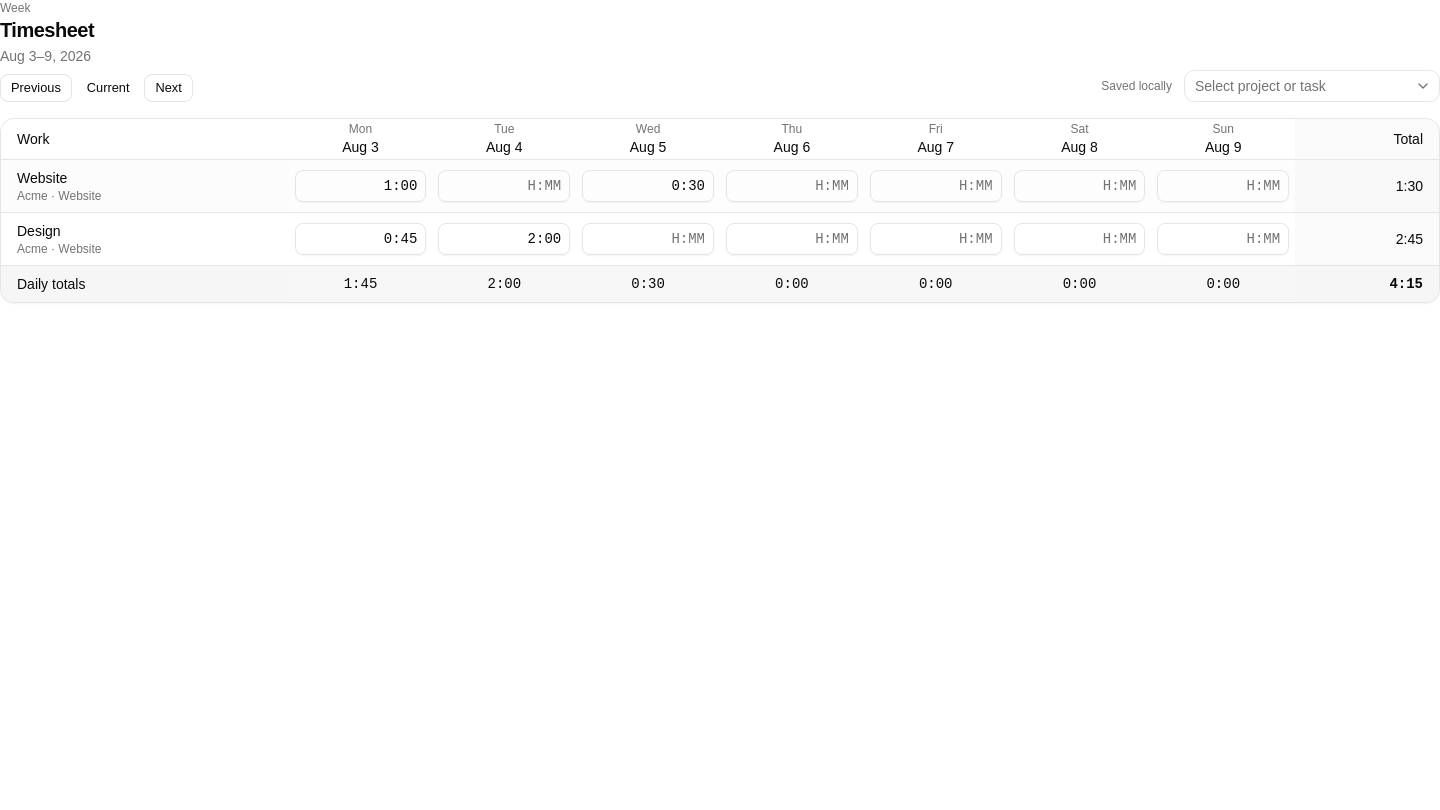
Test case: confirms deletion and recalculates row, day, and grand totals
Step 1. Clear the field named "Acme · Website · Mon Aug 3" → (360, 186), box [295, 170, 426, 202]
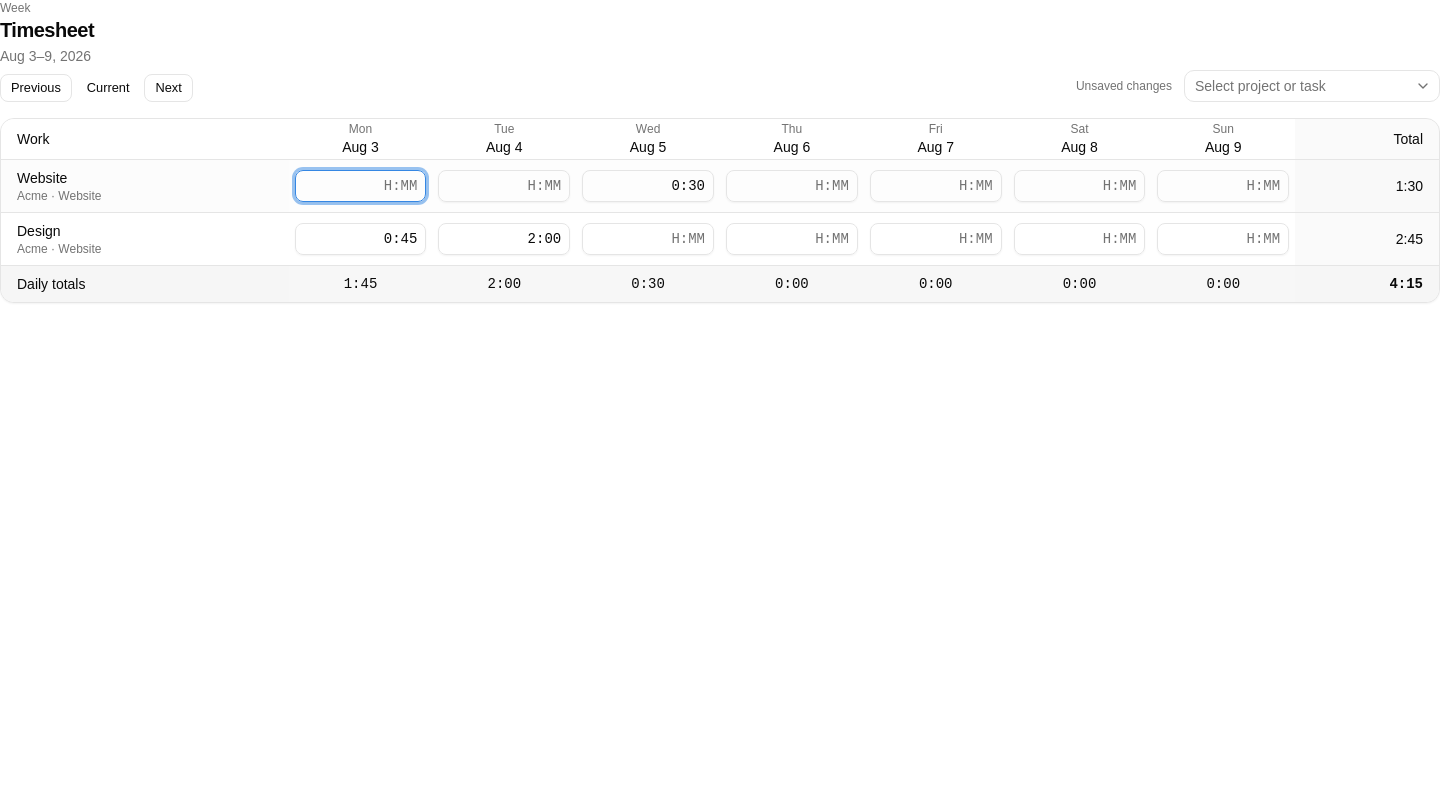
Step 2. Press Enter
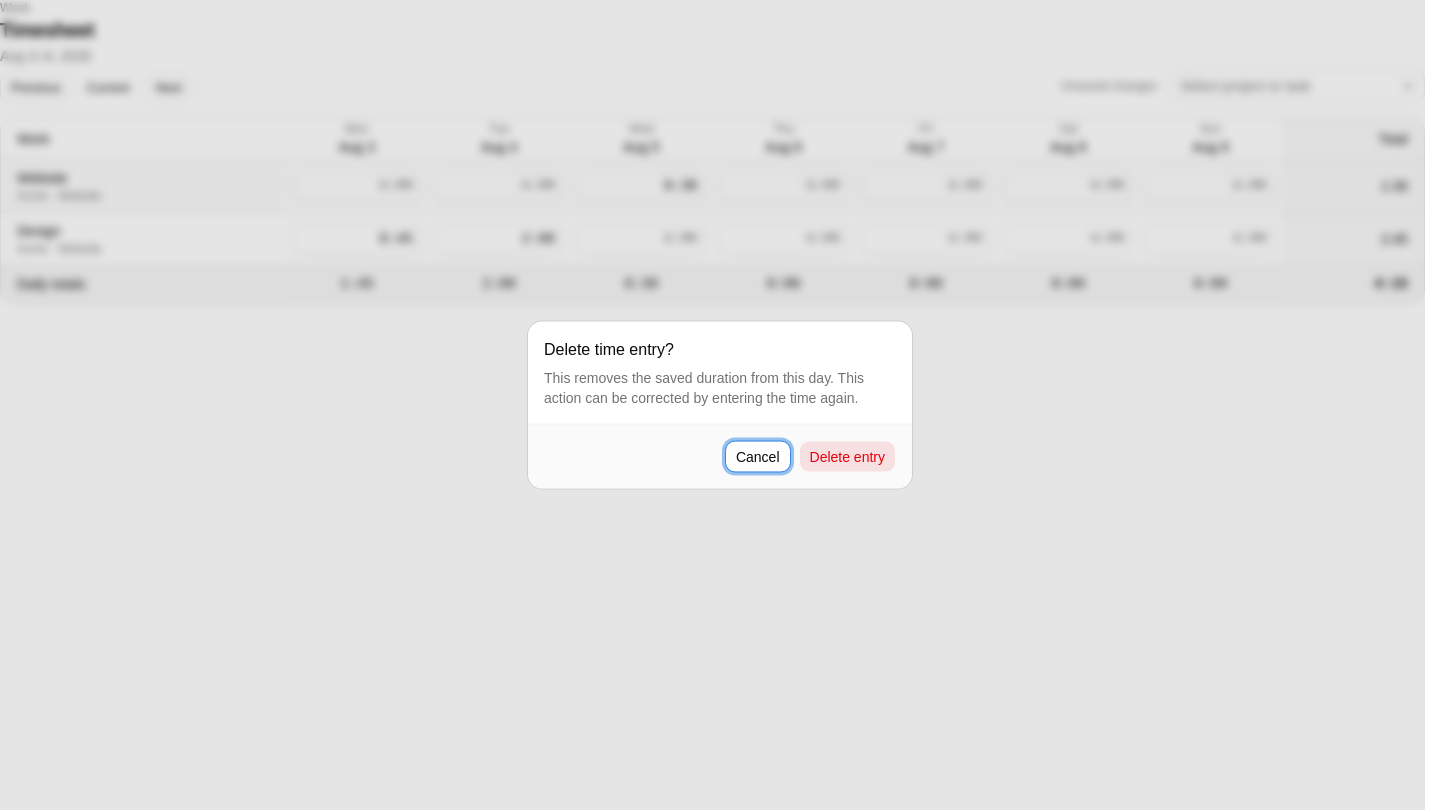
Step 3. Click the button "Delete entry" → click(847, 456), box [798, 440, 896, 472]
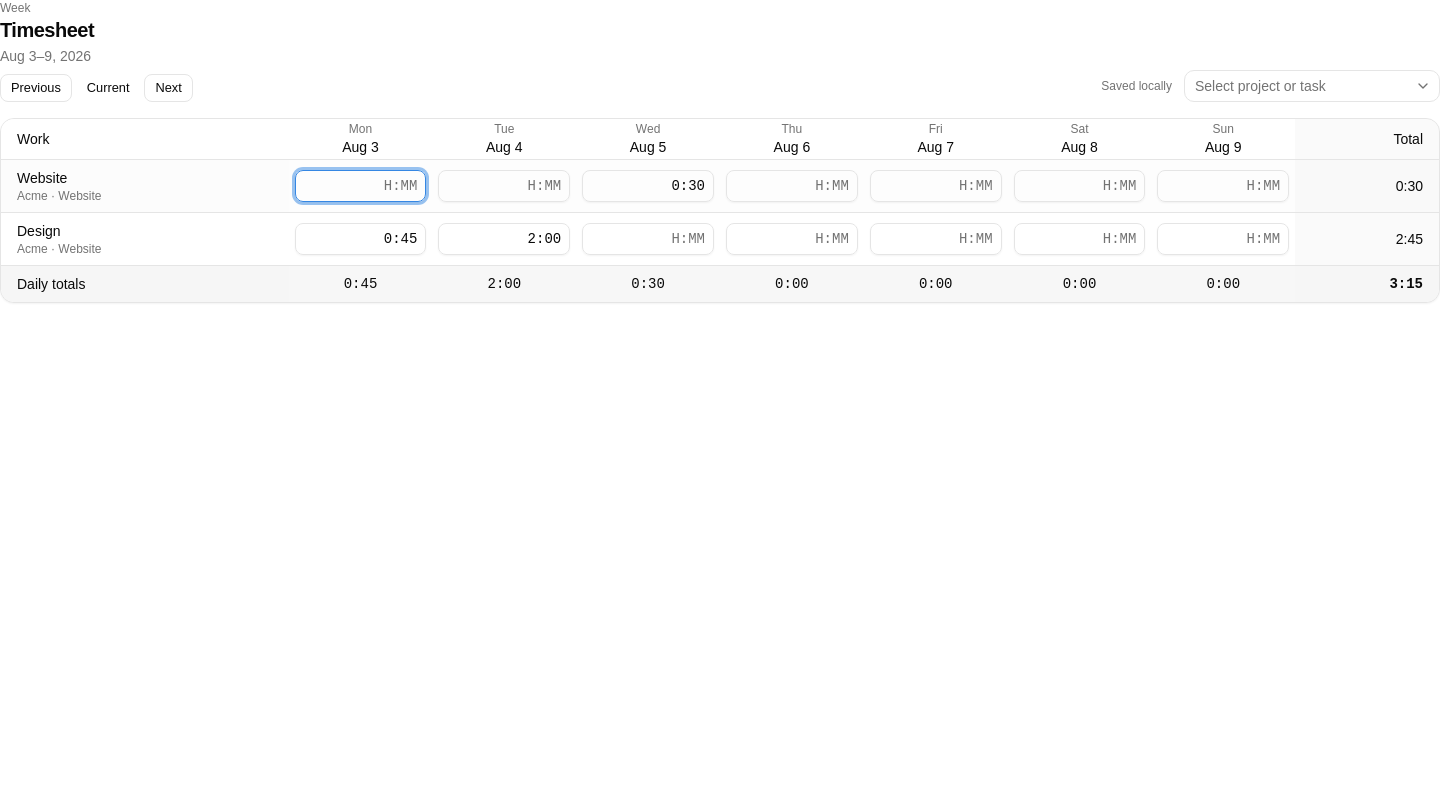
Expected: the 1st text "0:30" is shown, [1295, 159, 1439, 212]
Expected: the cell "0:45" is shown, [289, 265, 432, 302]
Expected: the cell "3:15" is shown, [1295, 265, 1439, 302]
